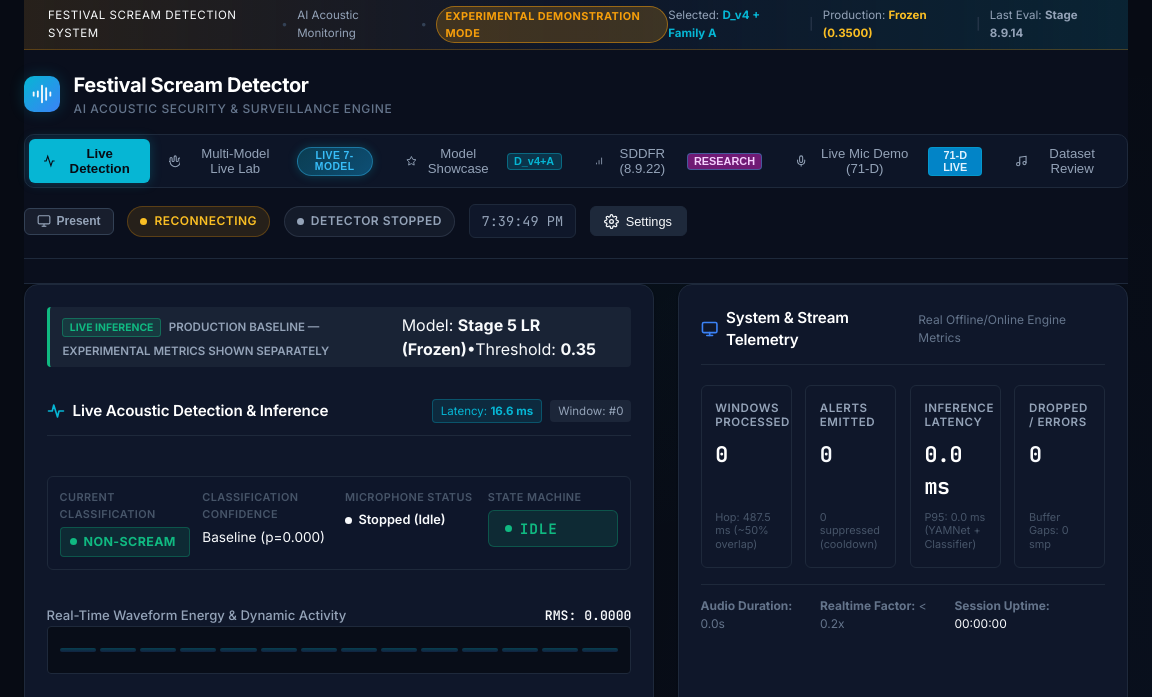
Test: Multi-Model Live Lab Integration › switches between tabs in App when clicking Multi-Model Live Lab
The width and height of the screenshot is (1152, 697).
Click the text "Multi-Model Live Lab" at (235, 161), box [201, 146, 269, 176]
(page scrolled)
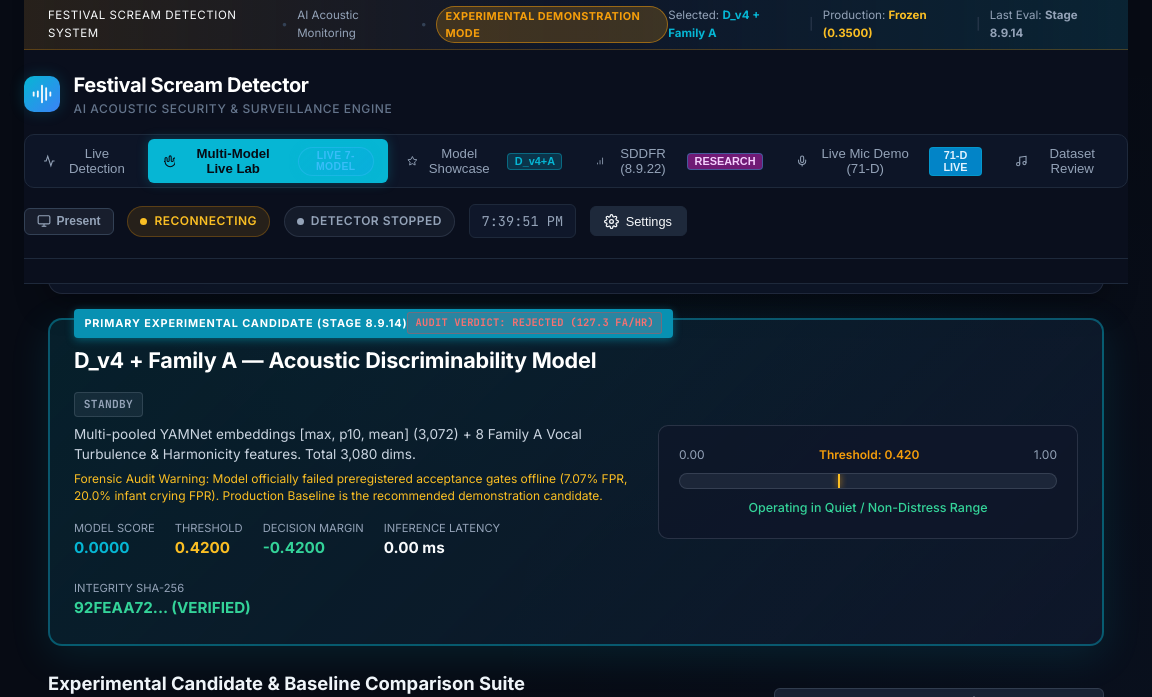
Expected: the heading "D_v4 + Family A — Acoustic Discriminability Model" is shown, [74, 344, 596, 376]
